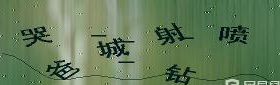chinese: (219, 21, 256, 48), (21, 21, 54, 47), (151, 21, 184, 44), (44, 61, 80, 81), (94, 40, 126, 62), (162, 61, 191, 85)
